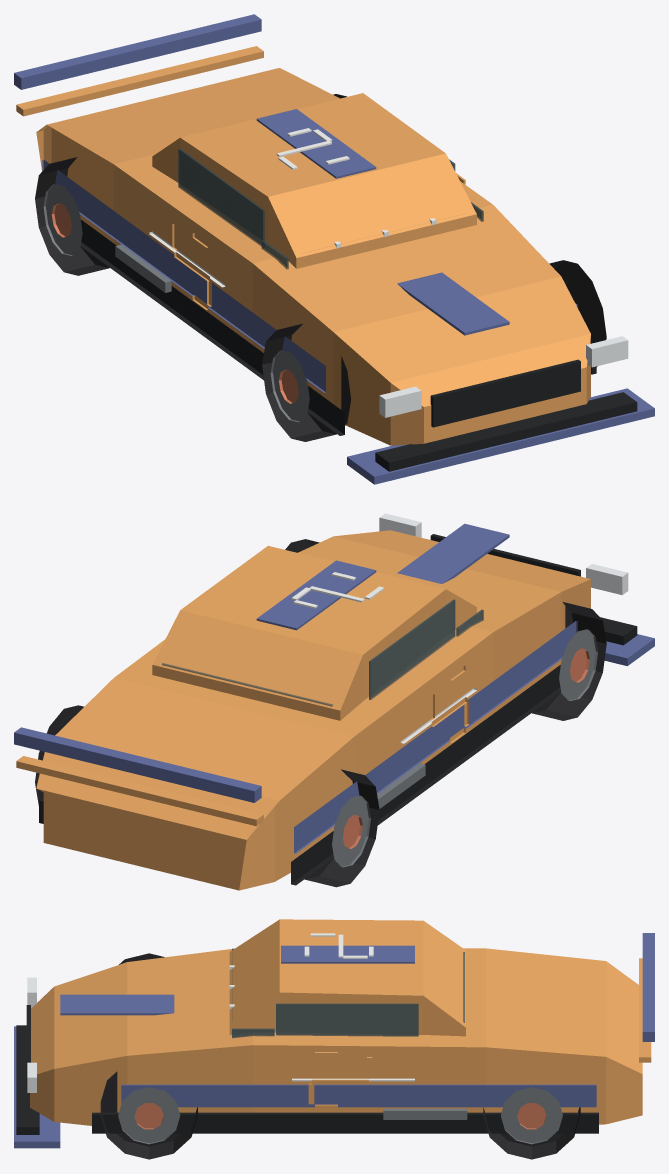
Rendered from web_stock_car_05.gltf.
3 views of the same model, one above another, from view 1: azimuth 30°, elevation 25°; view 2: azimuth 150°, elevation 25°; view 3: azimuth 270°, elevation 25° (orthographic). The views are drawn at different scales.
Visible parts, largest first — view 1: WebStockCar_05; view 2: WebStockCar_05; view 3: WebStockCar_05.
Part boxes in pixels (x1,y1,x2,y2): WebStockCar_05: (14,14,654,484); WebStockCar_05: (14,513,654,890); WebStockCar_05: (14,919,654,1159).
Bounding box in the file's own units: 2.35 × 1.34 × 5.26.
